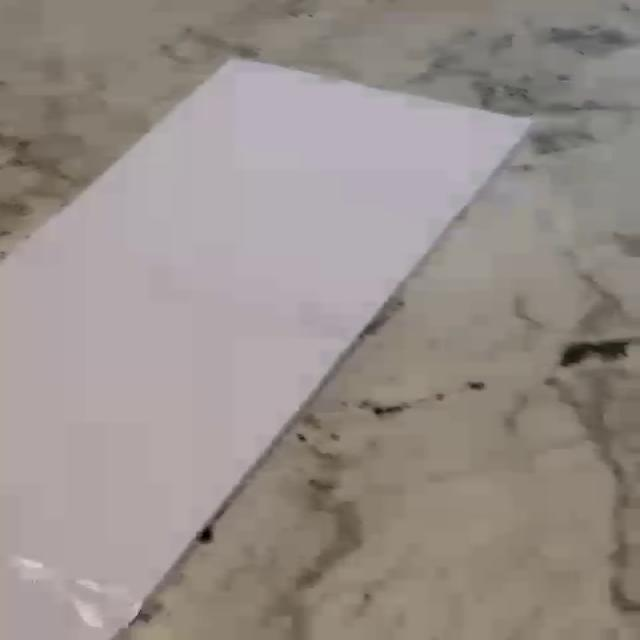road: (1, 60, 529, 640)
